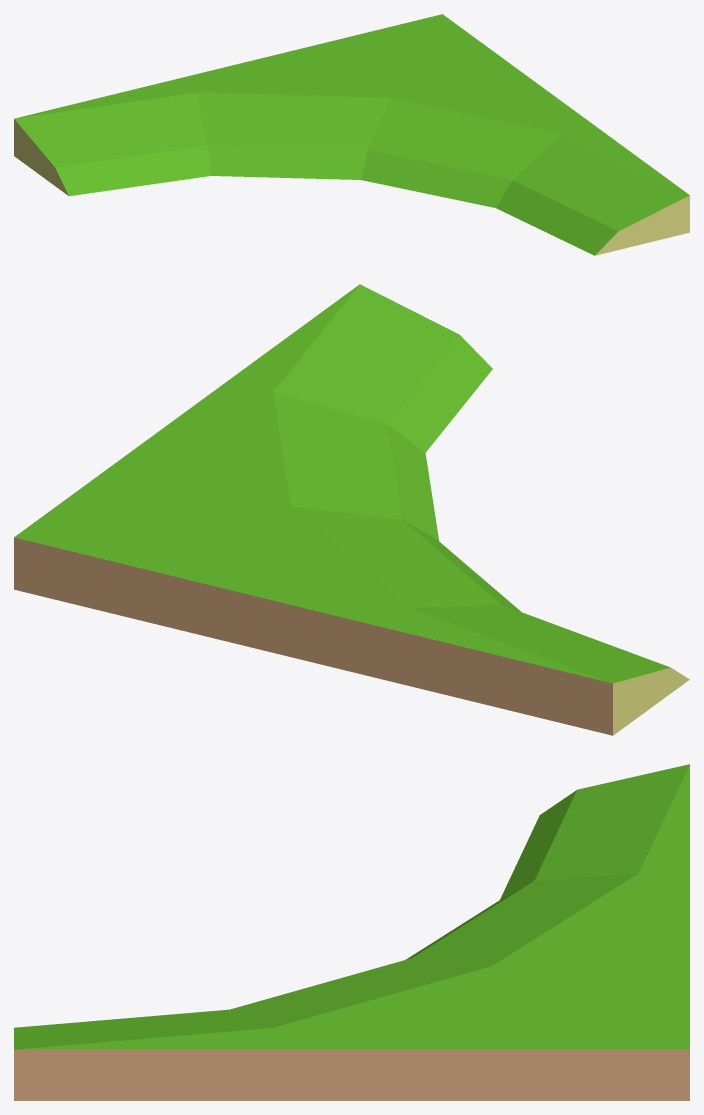
Rendered from Grass_Carpet_Curve_Inner_3x3.glb.
3 renders of one model, top to bottom at view 1: azimuth 30°, elevation 25°; view 2: azimuth 150°, elevation 25°; view 3: azimuth 270°, elevation 25°, orthographic. The views are drawn at different scales.
Parts seen in each view (by area): view 1: Grass_Carpet_Curve_Inner_3x3; view 2: Grass_Carpet_Curve_Inner_3x3; view 3: Grass_Carpet_Curve_Inner_3x3.
Boxes of the visible parts, x1=… form: Grass_Carpet_Curve_Inner_3x3: x1=14, y1=14, x2=689, y2=255; Grass_Carpet_Curve_Inner_3x3: x1=14, y1=284, x2=689, y2=735; Grass_Carpet_Curve_Inner_3x3: x1=14, y1=764, x2=689, y2=1100.
Bounding box in the file's own units: 300 × 25 × 300.
